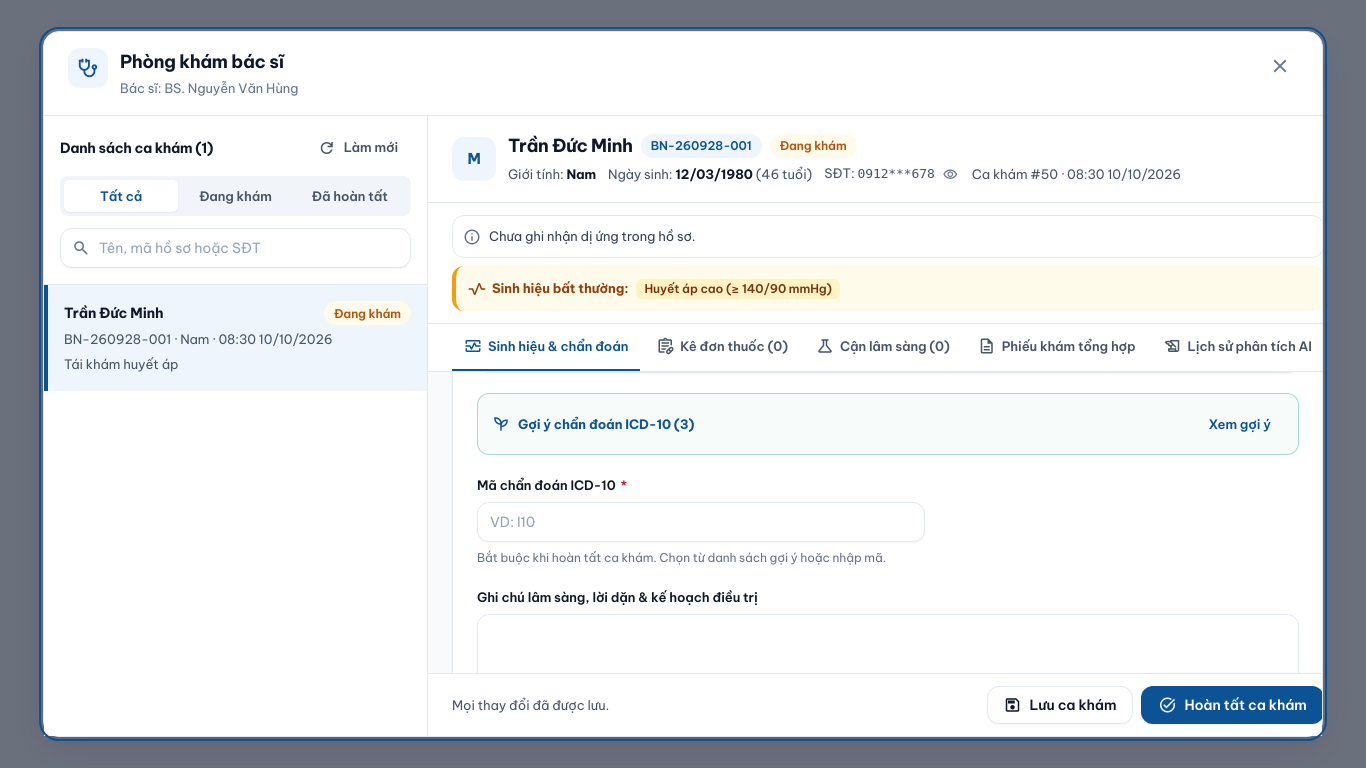
Test: Khám bệnh – giao diện Phòng khám bác sĩ (VisitDashboard) › lưu ca khám lỗi mạng: báo lỗi, KHÔNG hiển thị đã lưu
(page scrolled)
Type "I10" into the field labelled "Mã chẩn đoán ICD-10 *" at (701, 522), box [477,502,925,542]
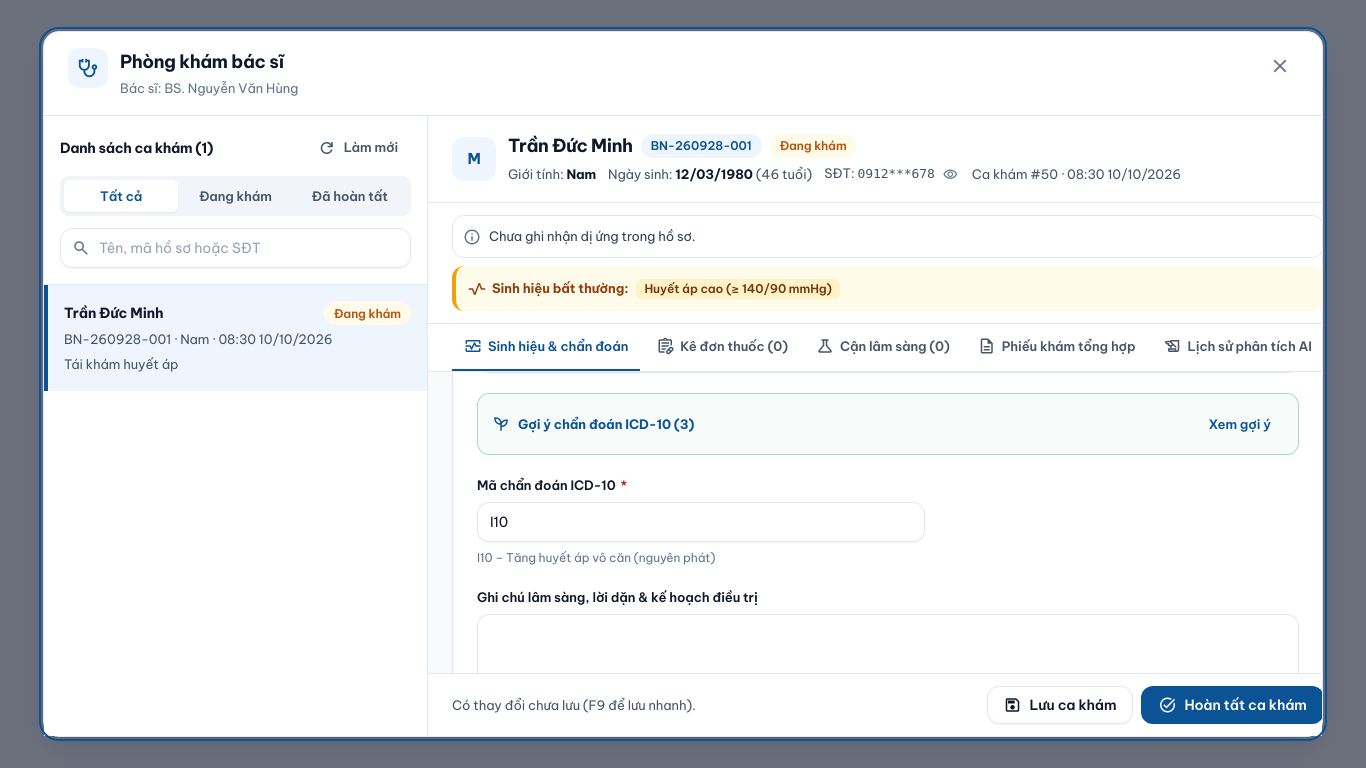
Click the button "Lưu ca khám" at (1060, 705), box [986,686,1133,724]
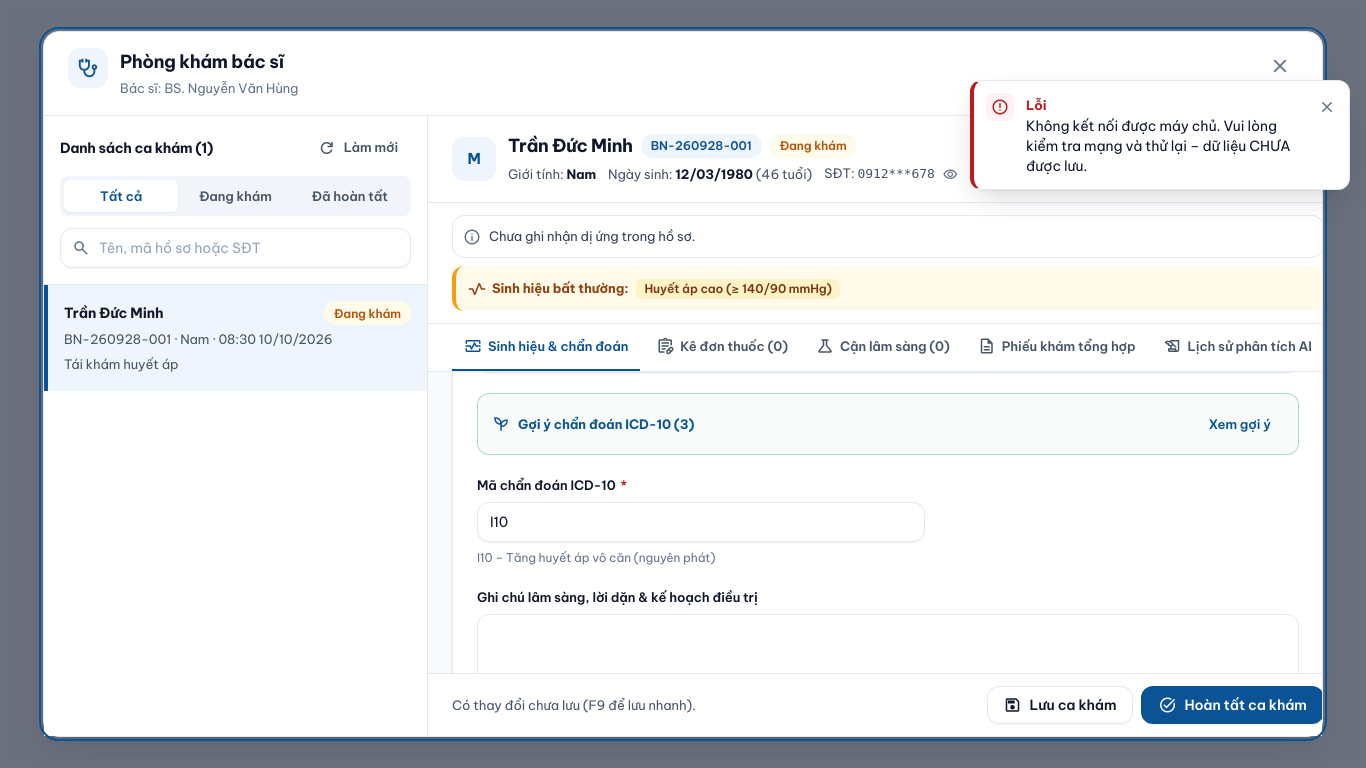
Expected: the text "Có thay đổi chưa lưu (F9 để lưu nhanh)." is shown, [452,695,696,716]
Expected: the text "Không kết nối được máy chủ" is shown, [1026,117,1290,175]
